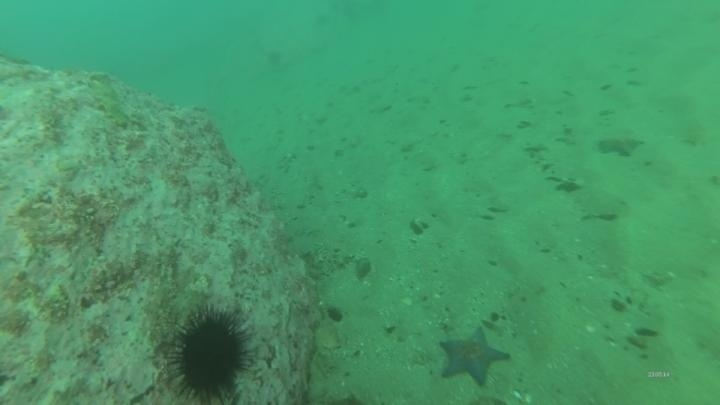echinus: (167, 305, 254, 403)
holothurian: (88, 74, 134, 132)
starfish: (436, 323, 512, 388), (595, 131, 646, 160)
